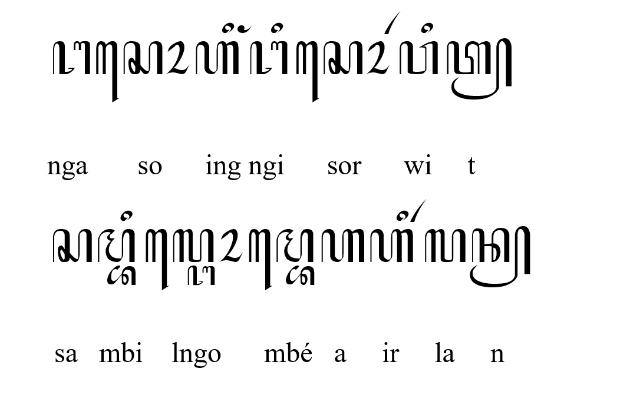-n: (470, 224, 532, 288)
-t: (446, 38, 512, 100)
_b: (285, 265, 315, 287), (106, 266, 136, 286)
_r1: (384, 10, 402, 34), (411, 200, 427, 223), (421, 22, 433, 34)
e1: (248, 228, 272, 292), (296, 41, 320, 103), (145, 229, 169, 291)
h: (195, 40, 239, 76), (321, 229, 365, 263), (369, 229, 413, 263)
i: (222, 22, 234, 34), (271, 22, 283, 34), (120, 210, 132, 222), (396, 211, 408, 222)
l: (172, 229, 214, 263), (424, 229, 466, 263)
m: (98, 229, 136, 263), (276, 228, 314, 262)
ng: (95, 40, 119, 102), (238, 24, 252, 34)
nga: (52, 40, 90, 76), (250, 41, 288, 75), (188, 266, 216, 286)
o: (218, 228, 244, 264), (164, 41, 190, 75), (366, 41, 390, 75)
s: (123, 40, 163, 74), (323, 41, 363, 75), (52, 229, 92, 263)
w: (399, 41, 438, 75)
